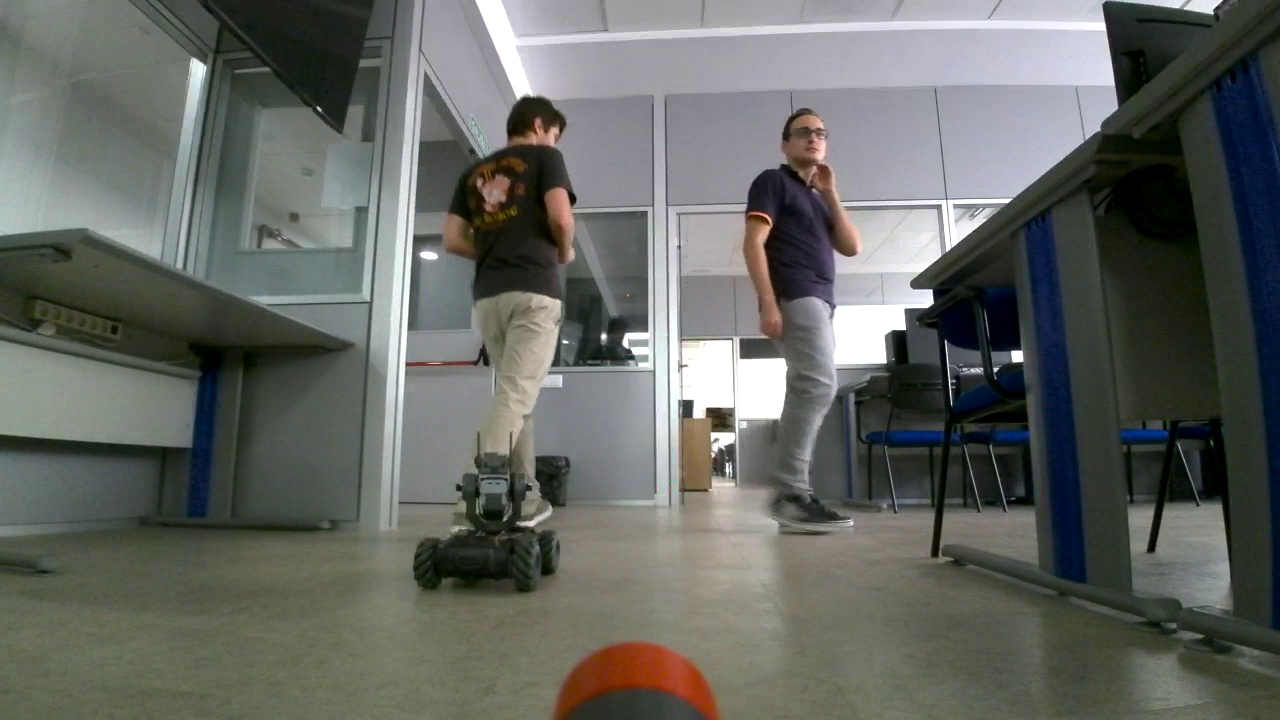robot: (414, 424, 562, 590)
